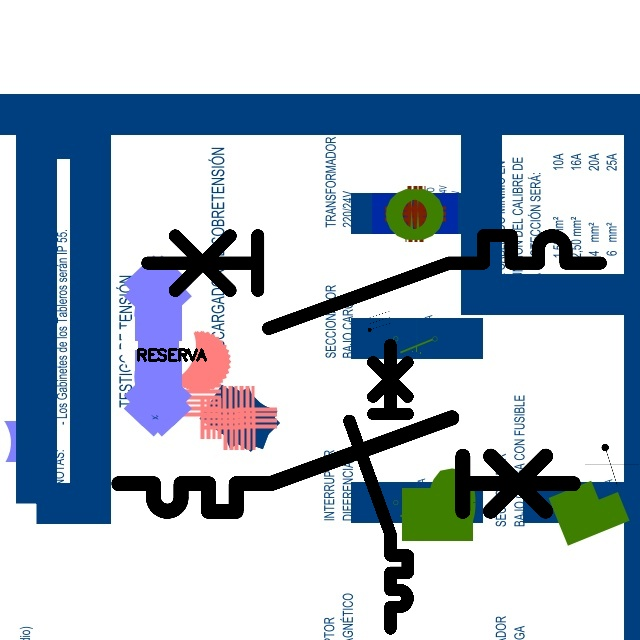interruptor_termomagnetico: (107, 406, 585, 523), (136, 224, 612, 340), (342, 337, 415, 636)
